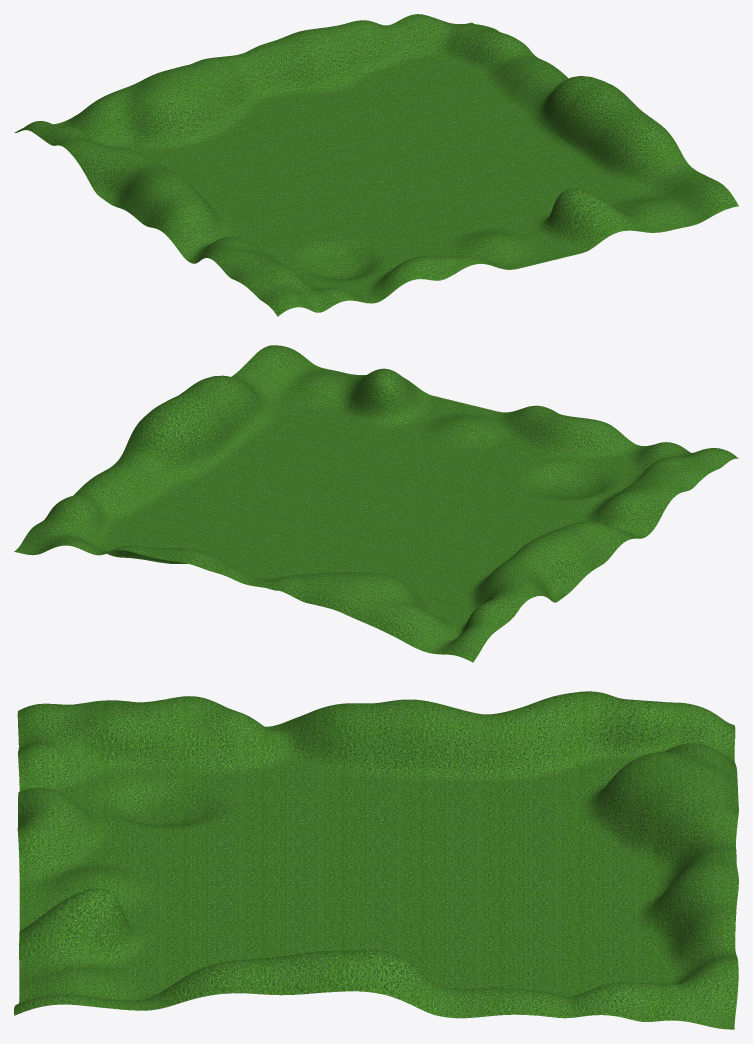
The model's file is grassfield.obj.
3 renders of one model, top to bottom at view 1: azimuth 30°, elevation 25°; view 2: azimuth 150°, elevation 25°; view 3: azimuth 270°, elevation 25°, orthographic. The views are drawn at different scales.
Visible parts, largest first — view 1: Object_84, Object_42, Object_80, Object_39, Object_27, Object_37, Object_56, Object_55, Object_14, Object_44, Object_51, Object_81 (+67 smaller); view 2: Object_24, Object_20, Object_48, Object_46, Object_72, Object_27, Object_74, Object_54, Object_30, Object_69, Object_77, Object_62 (+67 smaller); view 3: Object_19, Object_41, Object_13, Object_43, Object_67, Object_38, Object_73, Object_57, Object_56, Object_79, Object_80, Object_68 (+66 smaller).
Part boxes in pixels (box(x1,y1,x2,y2)): Object_84: box(593, 114, 681, 184); Object_42: box(144, 87, 225, 152); Object_80: box(547, 189, 634, 252); Object_39: box(269, 28, 349, 93); Object_27: box(562, 88, 649, 161); Object_37: box(219, 42, 297, 104); Object_56: box(323, 20, 398, 77); Object_55: box(373, 14, 448, 68); Object_14: box(130, 177, 213, 229); Object_44: box(71, 142, 153, 198); Object_51: box(449, 29, 534, 77); Object_81: box(656, 176, 738, 227); Object_24: box(124, 401, 217, 476); Object_20: box(508, 535, 591, 598); Object_48: box(317, 572, 402, 624); Object_46: box(370, 588, 451, 650); Object_72: box(555, 417, 634, 466); Object_27: box(162, 384, 244, 452); Object_74: box(597, 481, 679, 534); Object_54: box(73, 470, 153, 520); Object_30: box(101, 446, 183, 498); Object_69: box(525, 453, 605, 495); Object_77: box(322, 396, 402, 438); Object_62: box(504, 405, 575, 452); Object_19: box(416, 725, 497, 794); Object_41: box(576, 691, 670, 760); Object_13: box(336, 725, 417, 794); Object_43: box(495, 728, 575, 794); Object_67: box(98, 744, 179, 805); Object_38: box(652, 779, 738, 858); Object_73: box(178, 744, 259, 802); Object_57: box(653, 966, 738, 1029); Object_56: box(653, 884, 738, 961); Object_79: box(19, 936, 103, 994); Object_80: box(19, 888, 122, 953); Object_68: box(97, 697, 180, 749).
Size of the model in its own units: 69.82 by 7.98 by 69.2.
Materials: 81 (81 with a texture image).
